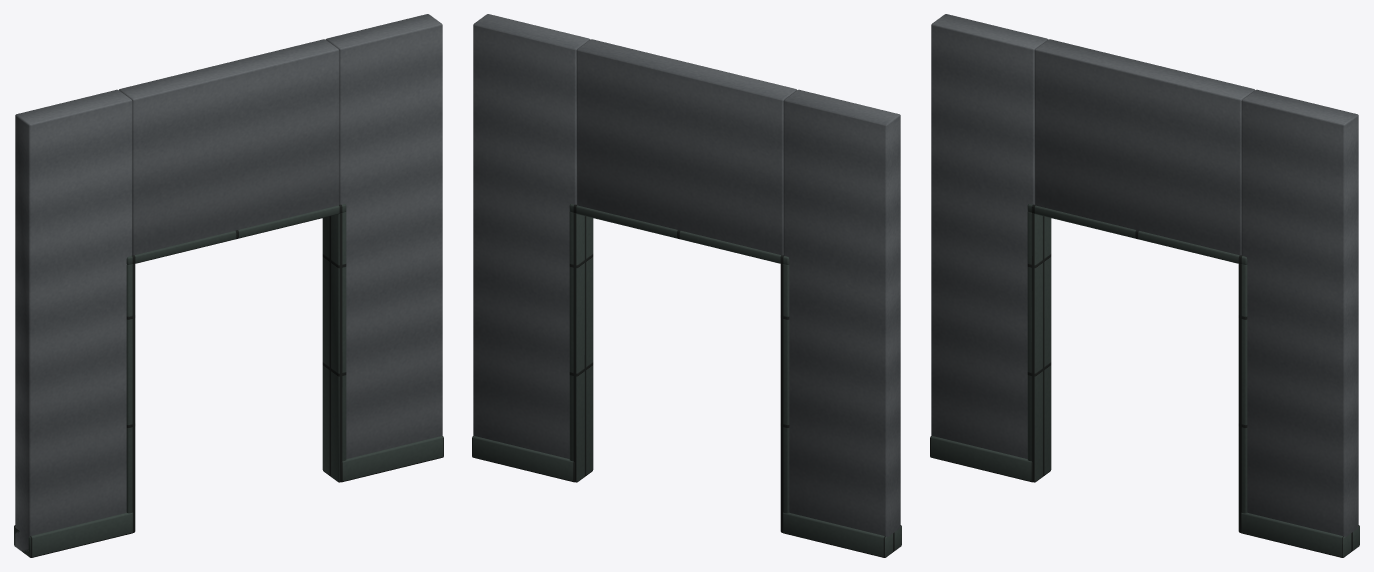
The model's file is WK_WALL_DOORFRAME_A_01.glb.
3 renders of one model, left to right at view 1: azimuth 30°, elevation 25°; view 2: azimuth 150°, elevation 25°; view 3: azimuth 330°, elevation 25°, orthographic.
Parts seen in each view (by area): view 1: WK_WALL_DOORFRAME_A_01; view 2: WK_WALL_DOORFRAME_A_01; view 3: WK_WALL_DOORFRAME_A_01.
Boxes of the visible parts, left/top/right/bottom form: WK_WALL_DOORFRAME_A_01: left=14, top=14, right=443, bottom=557; WK_WALL_DOORFRAME_A_01: left=472, top=14, right=901, bottom=557; WK_WALL_DOORFRAME_A_01: left=930, top=14, right=1359, bottom=557.
Bounding box in the file's own units: 4 × 4 × 0.29.
2 materials, 2 textured.
